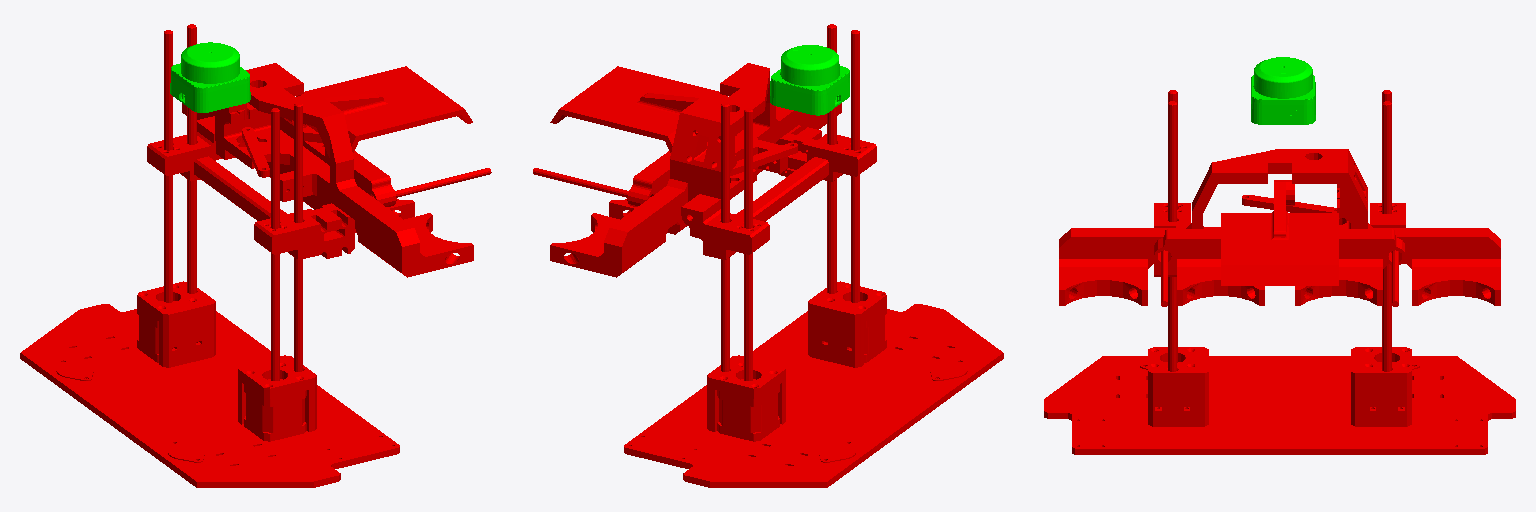
robot.urdf — Макет:
<?xml version="1.0" encoding="utf-8"?>
<!-- This URDF was automatically created by SolidWorks to URDF Exporter! Originally created by [author] ([email redacted]) 
     Commit Version: 1.6.0-4-g7f85cfe  Build Version: 1.6.7995.38578
     For more information, please see http://wiki.ros.org/sw_urdf_exporter -->
<robot
  name="Макет">
  <link
    name="base_link">
    <inertial>
      <origin
        xyz="0.055795 0.00111 0.11345"
        rpy="0 0 0" />
      <mass
        value="5" />
      <inertia
        ixx="0.01219"
        ixy="0.00012117"
        ixz="0.00018358"
        iyy="0.0027513"
        iyz="-0.00011927"
        izz="0.012455" />
    </inertial>
    <visual>
      <origin
        xyz="0 0 0"
        rpy="0 0 0" />
      <geometry>
        <mesh
          filename="package://Макет/meshes/base_link.STL" />
      </geometry>
      <material
        name="">
        <color
          rgba="1 0 0 1" />
      </material>
    </visual>
    <collision>
      <origin
        xyz="0 0 0"
        rpy="0 0 0" />
      <geometry>
        <mesh
          filename="package://Макет/meshes/base_link.STL" />
      </geometry>
    </collision>
  </link>
  <link
    name="lidar_link">
    <inertial>
      <origin
        xyz="0.00012979 -6.6734E-06 -0.0079009"
        rpy="0 0 0" />
      <mass
        value="0.25" />
      <inertia
        ixx="9.5253E-06"
        ixy="6.45E-11"
        ixz="4.1315E-08"
        iyy="9.4166E-06"
        iyz="6.3454E-09"
        izz="1.7083E-05" />
    </inertial>
    <visual>
      <origin
        xyz="0 0 0"
        rpy="0 0 0" />
      <geometry>
        <mesh
          filename="package://Макет/meshes/lidar_link.STL" />
      </geometry>
      <material
        name="">
        <color
          rgba="0 1 0 1" />
      </material>
    </visual>
    <collision>
      <origin
        xyz="0 0 0"
        rpy="0 0 0" />
      <geometry>
        <mesh
          filename="package://Макет/meshes/lidar_link.STL" />
      </geometry>
    </collision>
  </link>
  <joint
    name="lidar_to_base"
    type="fixed">
    <origin
      xyz="0.005563 0.002859 0.30015"
      rpy="0 0 0" />
    <parent
      link="base_link" />
    <child
      link="lidar_link" />
    <axis
      xyz="0 0 0" />
    <limit
      effort="0"
      velocity="0" />
    <dynamics
      damping="0"
      friction="0" />
  </joint>
  <link
    name="right_wheel">
    <inertial>
      <origin
        xyz="8.3267E-17 0 0.013353"
        rpy="0 0 0" />
      <mass
        value="0.08" />
      <inertia
        ixx="3.6651E-05"
        ixy="1.1089E-20"
        ixz="1.0295E-19"
        iyy="3.6651E-05"
        iyz="2.2675E-21"
        izz="5.4175E-05" />
    </inertial>
    <visual>
      <origin
        xyz="0 0 0"
        rpy="0 0 0" />
      <geometry>
        <mesh
          filename="package://Макет/meshes/right_wheel.STL" />
      </geometry>
      <material
        name="">
        <color
          rgba="0 0 1 1" />
      </material>
    </visual>
    <collision>
      <origin
        xyz="0 0 0"
        rpy="0 0 0" />
      <geometry>
        <mesh
          filename="package://Макет/meshes/right_wheel.STL" />
      </geometry>
    </collision>
  </link>
  <joint
    name="rightwheel"
    type="continuous">
    <origin
      xyz="0.059148 -0.2 0.021"
      rpy="-1.5708 0 0" />
    <parent
      link="base_link" />
    <child
      link="right_wheel" />
    <axis
      xyz="0 0 1" />
    <limit
      effort="0"
      velocity="10" />
    <dynamics
      damping="0"
      friction="0" />
  </joint>
  <link
    name="left_wheel">
    <inertial>
      <origin
        xyz="3.8886E-14 3.645E-14 0.38665"
        rpy="0 0 0" />
      <mass
        value="0.08" />
      <inertia
        ixx="3.6651E-05"
        ixy="-1.2633E-21"
        ixz="-9.0385E-18"
        iyy="3.6651E-05"
        iyz="7.177E-19"
        izz="5.4175E-05" />
    </inertial>
    <visual>
      <origin
        xyz="0 0 0"
        rpy="0 0 0" />
      <geometry>
        <mesh
          filename="package://Макет/meshes/left_wheel.STL" />
      </geometry>
      <material
        name="">
        <color
          rgba="0 0 1 1" />
      </material>
    </visual>
    <collision>
      <origin
        xyz="0 0 0"
        rpy="0 0 0" />
      <geometry>
        <mesh
          filename="package://Макет/meshes/left_wheel.STL" />
      </geometry>
    </collision>
  </link>
  <joint
    name="leftwheel"
    type="continuous">
    <origin
      xyz="0.059148 -0.2 0.021"
      rpy="-1.5708 0 0" />
    <parent
      link="base_link" />
    <child
      link="left_wheel" />
    <axis
      xyz="0 0 1" />
    <limit
      effort="0"
      velocity="10" />
    <dynamics
      damping="0"
      friction="0" />
  </joint>
</robot>

--- Facts derived from the render (not from the file) ---
Views: 3 orthographic renders of the robot side by side, from view 1: azimuth 30°, elevation 25°; view 2: azimuth 150°, elevation 25°; view 3: azimuth 270°, elevation 25°.
Model Макет with 4 links and 3 joints (2 continuous, 1 fixed), rooted at base_link, posed every joint at zero.
Links seen in each view (by area): view 1: base_link, lidar_link; view 2: base_link, lidar_link; view 3: base_link, lidar_link.
Boxes of the visible links, x1,y1,x2,y2 form: base_link: (20,24,491,487); lidar_link: (170,42,250,112); base_link: (533,24,1003,487); lidar_link: (770,45,849,115); base_link: (1044,90,1515,454); lidar_link: (1251,57,1315,124).
Size in the robot's own frame: 0.3305 by 0.4 by 0.3371 metres.
Meshes: 4 distinct files referenced, 2 mesh visuals loaded (2 binary STL); not drawn: 2 (reference not matched to a file when rendering).